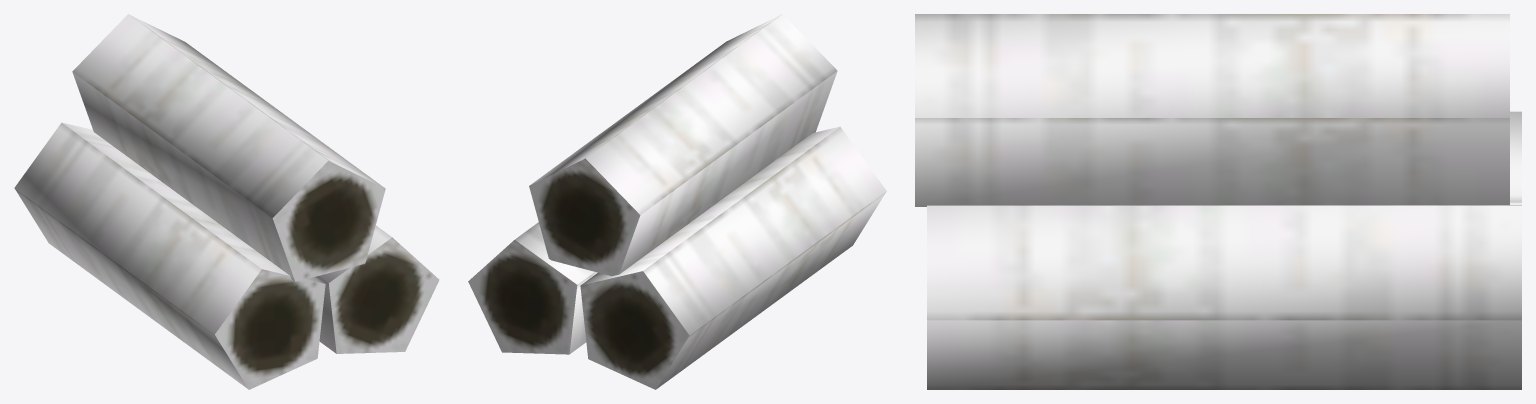
The model's file is Environment - Prop - CONSUP 02 - PMCONSUP02.glb.
The picture shows the model from 3 angles, left to right: view 1: azimuth 30°, elevation 25°; view 2: azimuth 150°, elevation 25°; view 3: azimuth 270°, elevation 25°; orthographic projection. The views are drawn at different scales.
Parts seen in each view (by area): view 1: PMCONSUP02; view 2: PMCONSUP02; view 3: PMCONSUP02.
Part boxes in pixels (bbox=[...]): PMCONSUP02: bbox=[14, 14, 439, 389]; PMCONSUP02: bbox=[468, 14, 886, 389]; PMCONSUP02: bbox=[915, 14, 1521, 389].
Size of the model in its own units: 11.92 by 10.83 by 18.75.
Materials: 1 (1 with a texture image).
